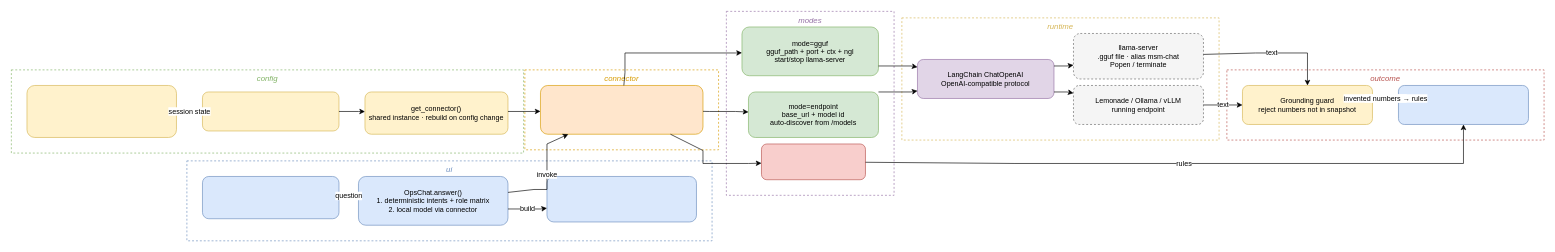
Image size: 1555x252. Some labels were removed from this diagram. The shapes that lost their labels are listed below. From the top down, each one's centre as x and y in pixels, then its label:
At [101,111]: "Configuration → Chat model off | endpoint | gguf path · port · context · API key".
At [270,111]: "ChatModelConfig from_environment() / session state".
At [621,109]: "ChatConnector.invoke() ensure_ready() → resolve model → ChatOpenAI".
At [1463,104]: "Answer in sidebar or deterministic fallback".
At [813,161]: "mode=off no model call".
At [270,197]: "Sidebar Assistant chat_input + document attach".
At [621,199]: "Compact JSON snapshot role, permissions, events, finance (gated), document".
